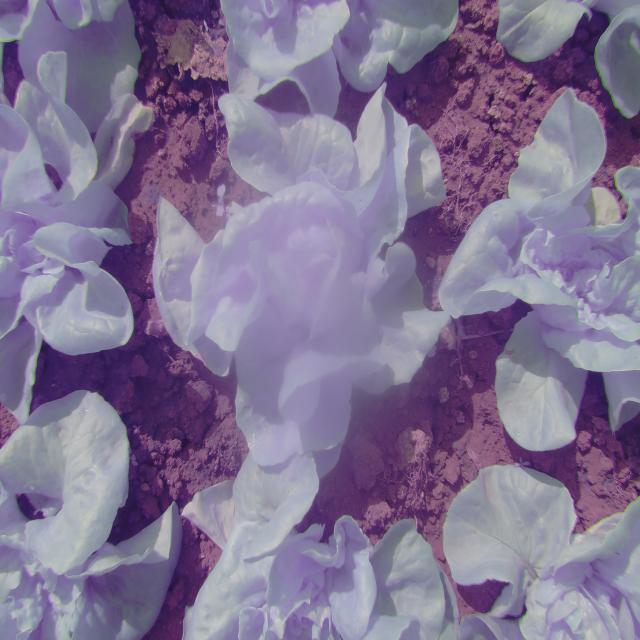vege: (147, 93, 461, 500)
